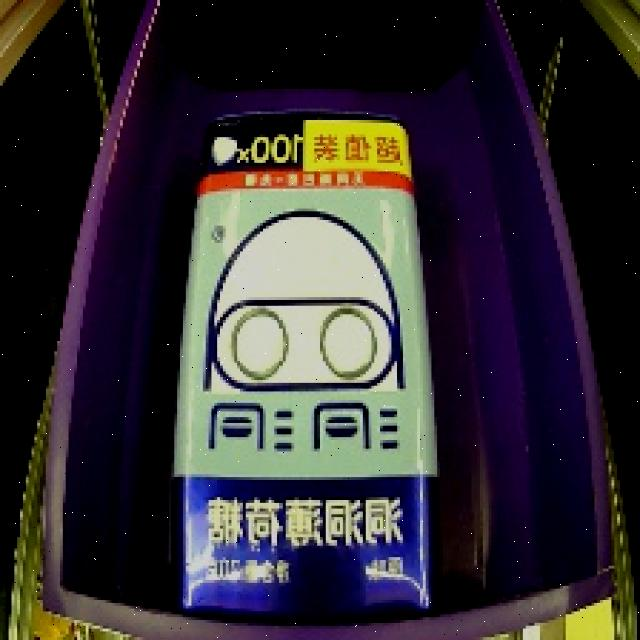metal: (166, 106, 455, 634)
